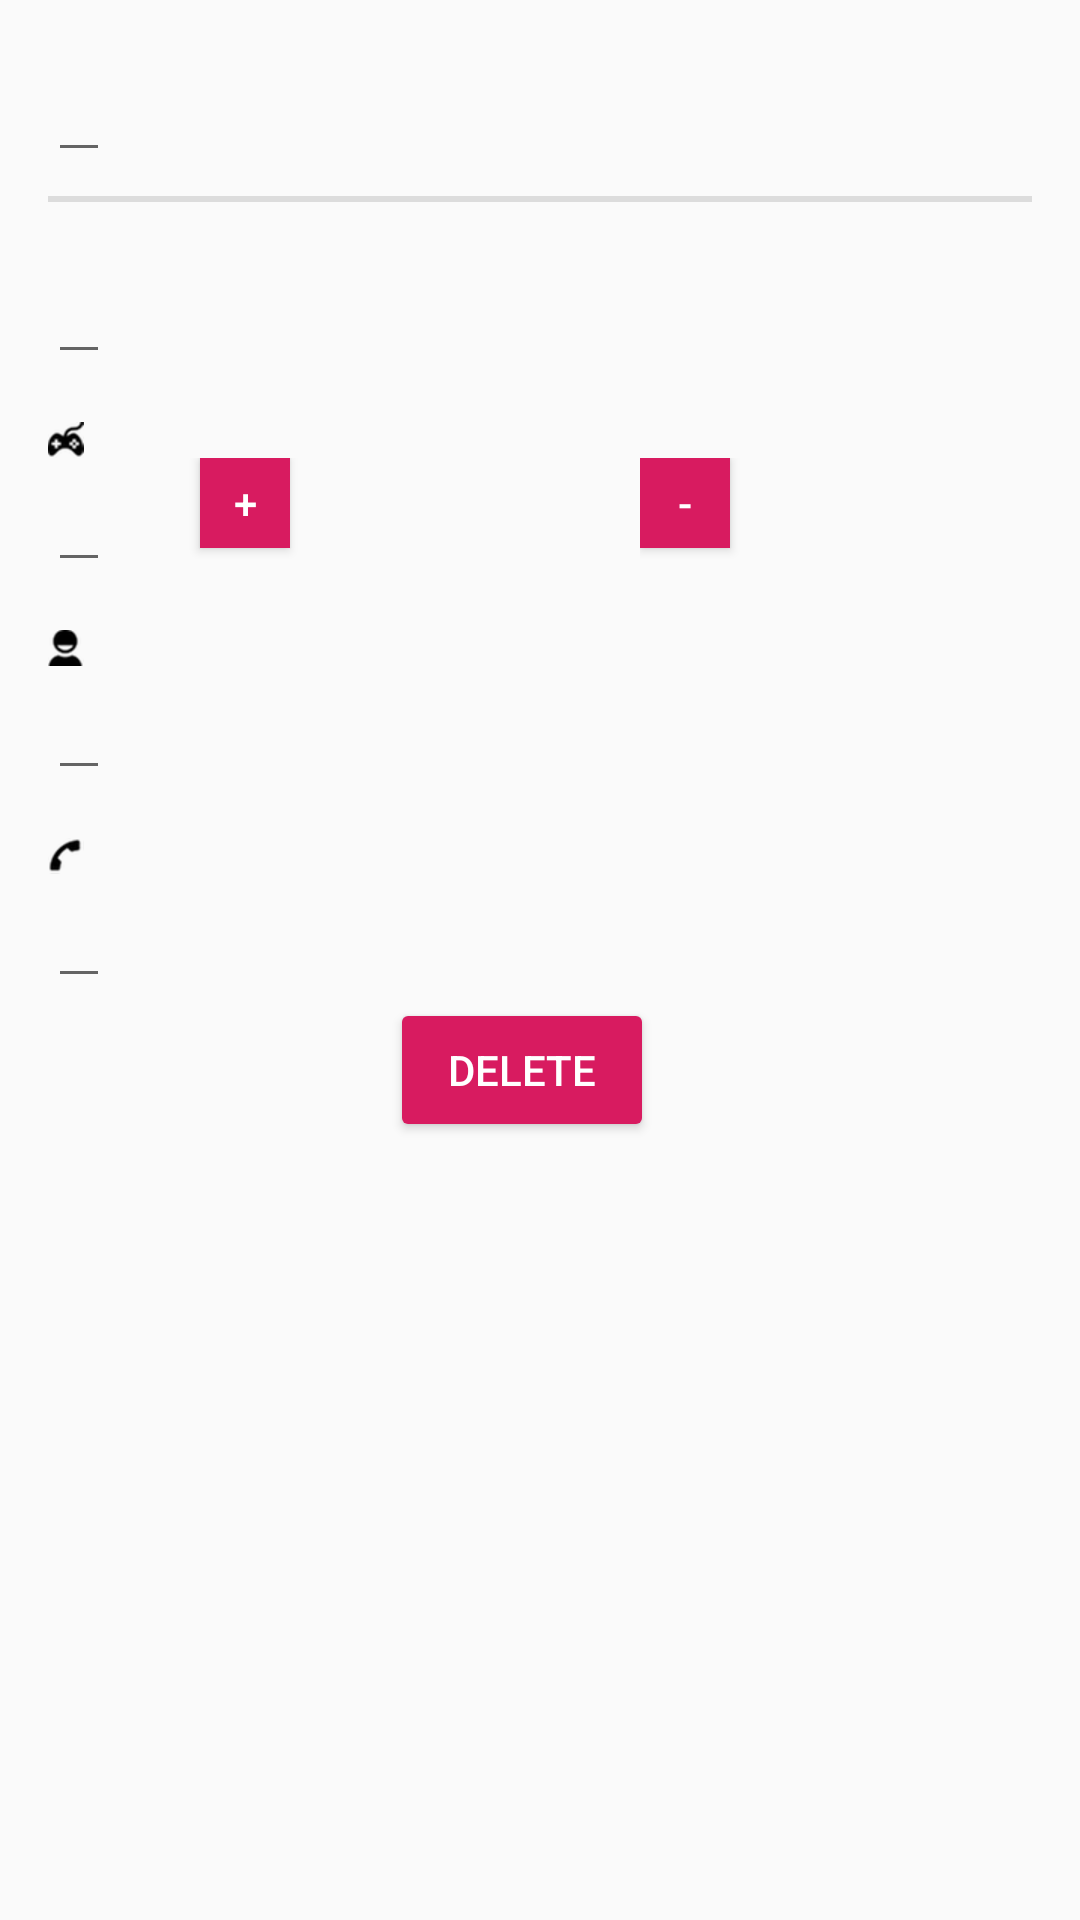

Point at icon controls on the screen. Image size 1080w x 1920h, points as [x,y].
Game quantity icon: [66,439]
Game supplier contact icon: [65,855]
Game supplier icon: [65,648]
